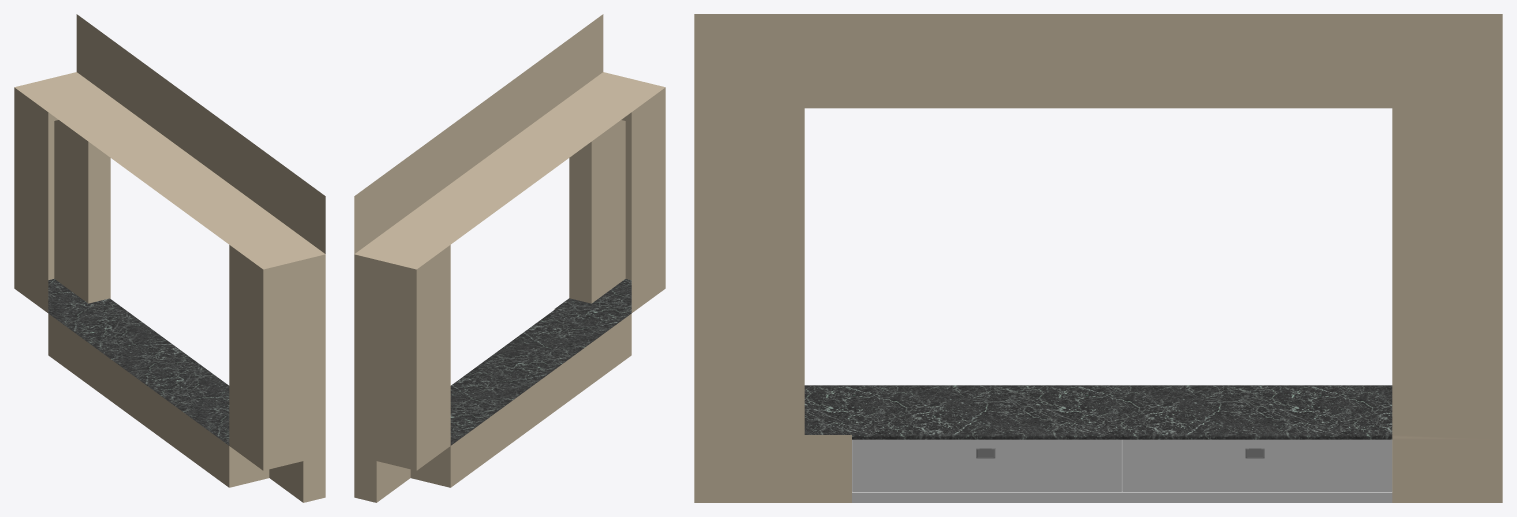
File: WindowWall.fbx
3 views of the same model, side by side, from view 1: azimuth 30°, elevation 25°; view 2: azimuth 150°, elevation 25°; view 3: azimuth 270°, elevation 25° (orthographic). The views are drawn at different scales.
Parts seen in each view (by area): view 1: WindowWall; view 2: WindowWall; view 3: WindowWall.
Boxes of the visible parts, box(x1,y1,x2,y2) form: WindowWall: box(14, 14, 325, 502); WindowWall: box(354, 14, 665, 502); WindowWall: box(694, 14, 1502, 502).
Bounding box in the file's own units: 52.52 × 242 × 363.
